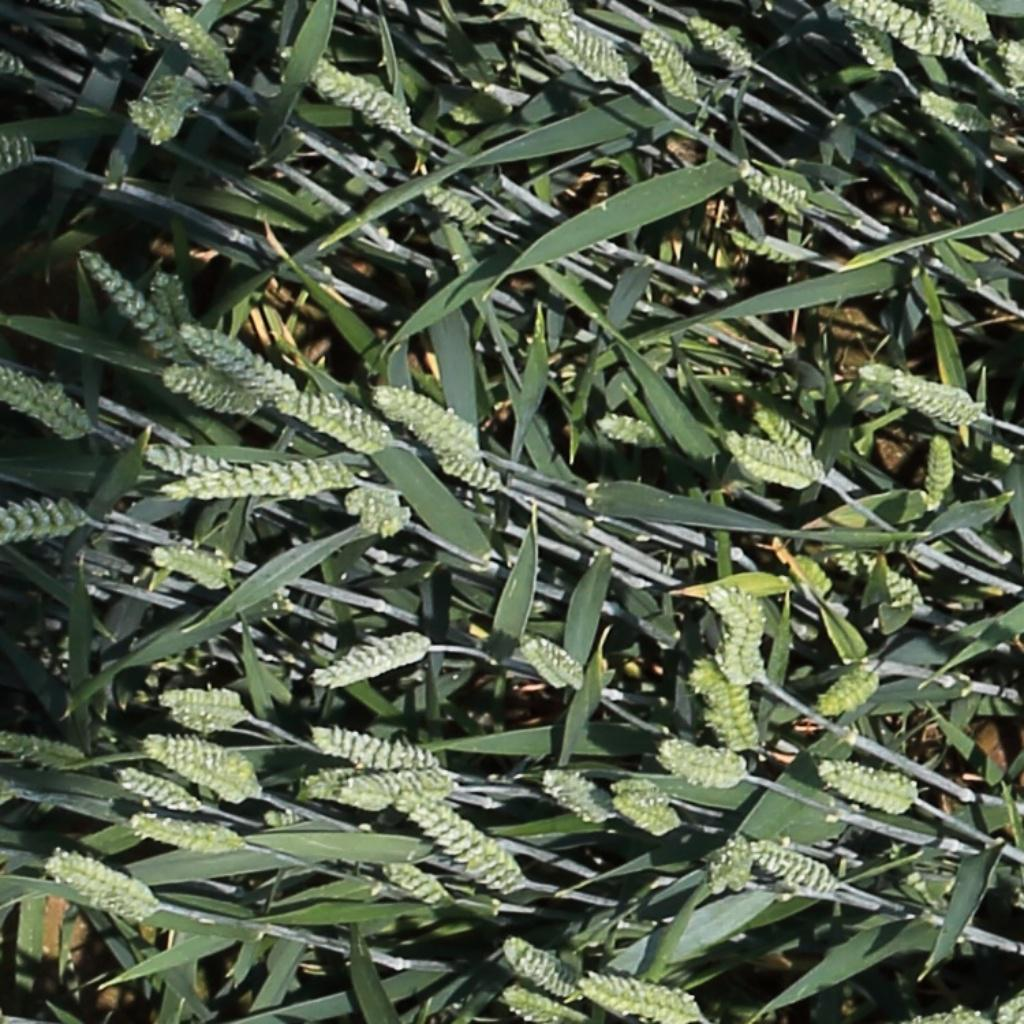0-0: (389, 794, 530, 892), (159, 447, 368, 510), (73, 244, 185, 357), (299, 54, 426, 142), (42, 843, 172, 927), (395, 402, 507, 493), (567, 966, 720, 1024), (174, 322, 293, 394), (306, 633, 430, 693), (841, 0, 961, 58), (154, 1, 233, 88), (812, 754, 922, 815), (162, 365, 271, 426), (876, 367, 987, 426), (539, 21, 631, 91), (151, 752, 270, 806), (372, 384, 472, 446), (649, 733, 753, 791), (723, 436, 825, 494), (278, 391, 385, 446), (0, 492, 95, 552), (0, 367, 79, 436), (634, 25, 701, 106), (836, 547, 921, 610), (694, 669, 756, 755), (141, 732, 250, 780), (124, 808, 238, 853), (311, 729, 432, 771), (712, 585, 761, 682), (501, 937, 576, 999), (746, 843, 835, 894), (750, 402, 819, 465), (139, 72, 196, 146), (336, 484, 413, 537), (684, 13, 752, 72), (537, 770, 606, 827), (150, 548, 237, 592), (841, 6, 895, 76), (362, 768, 478, 800), (113, 768, 195, 813), (438, 86, 517, 132), (734, 161, 808, 208), (157, 683, 249, 720), (518, 637, 582, 689), (36, 376, 92, 435), (610, 800, 686, 840), (817, 664, 880, 712), (699, 701, 749, 760), (141, 446, 236, 477), (703, 838, 752, 898), (726, 229, 806, 264), (380, 865, 445, 907), (501, 988, 581, 1022), (917, 90, 988, 128), (604, 772, 679, 807), (0, 734, 84, 765), (786, 548, 834, 602), (419, 181, 480, 223), (922, 427, 951, 514), (929, 1, 989, 39), (164, 706, 244, 733), (593, 415, 662, 445), (1007, 66, 1024, 141), (998, 38, 1024, 86), (259, 809, 306, 831)
